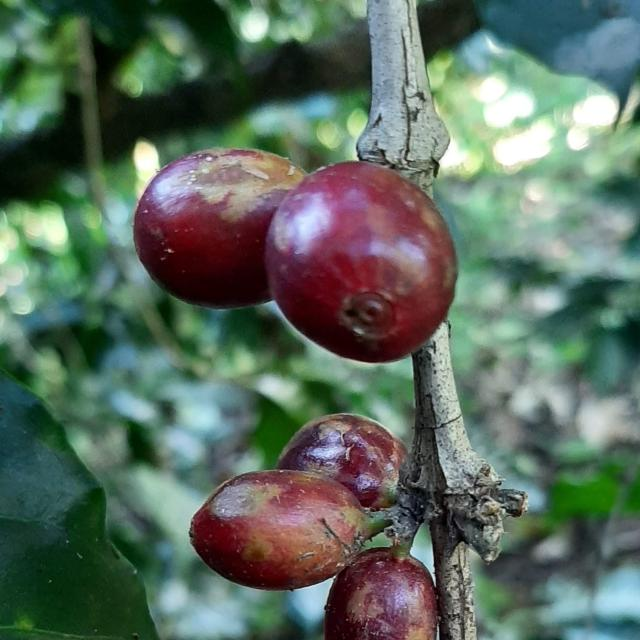red: (265, 161, 458, 362), (133, 148, 306, 308), (276, 414, 408, 511), (324, 549, 437, 640)
yellow: (189, 470, 390, 591)
